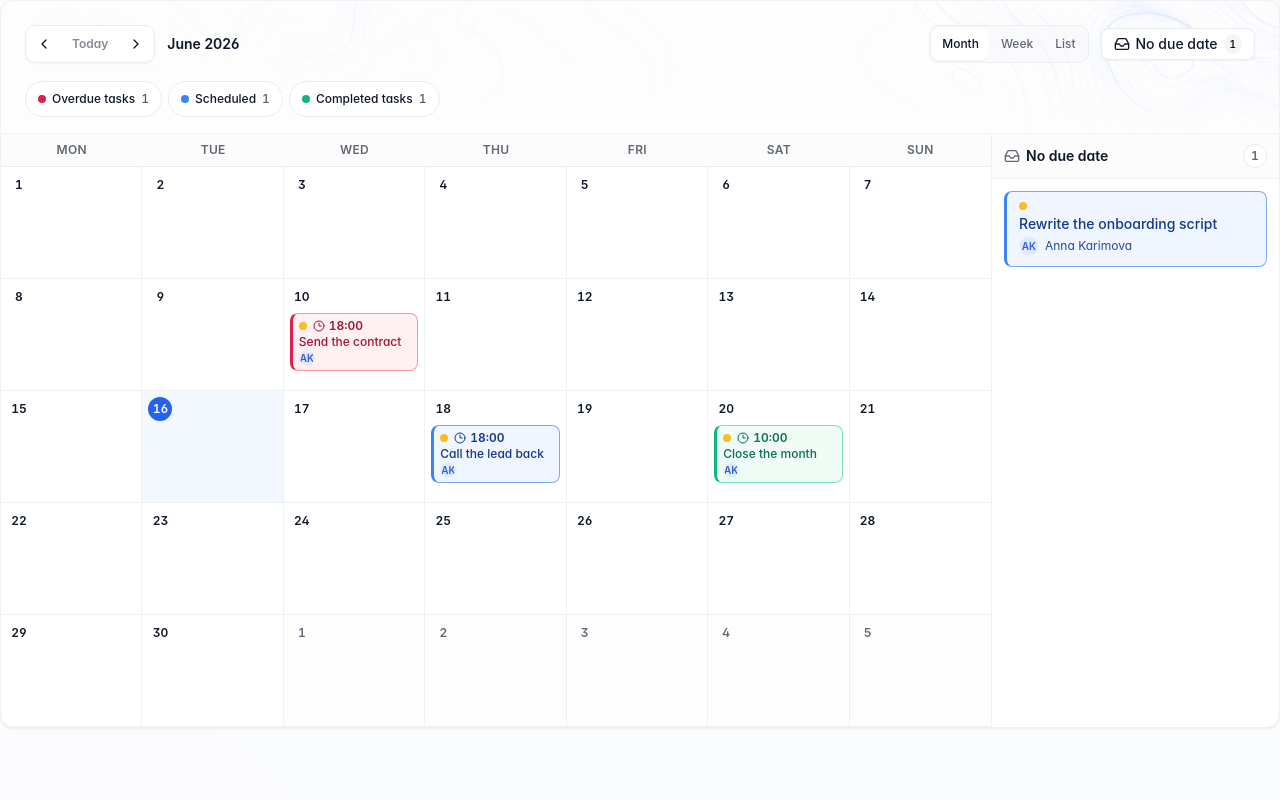
Test case: task calendar › separates overdue work from what is still planned and what is finished
Expected: the button with test id "task-calendar-filter-planned" shows "1", [168, 81, 283, 117]
Expected: the button with test id "task-calendar-filter-finished" shows "1", [289, 81, 440, 117]
Step 1. Click the button with test id "task-calendar-filter-overdue" → (94,99), box [25, 81, 162, 117]
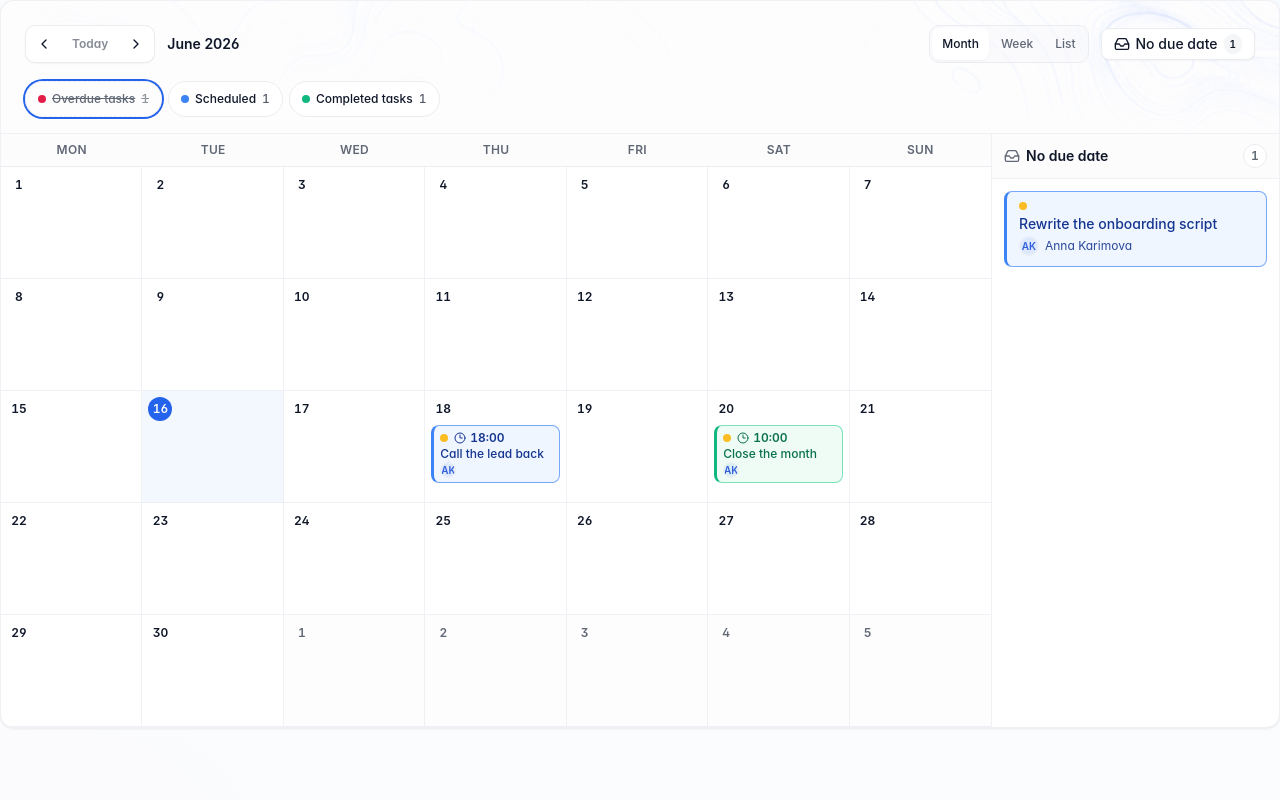
Expected: the button with test id "task-calendar-task-1" is shown, [431, 425, 560, 483]
Now the button with test id "task-calendar-task-2" is gone
